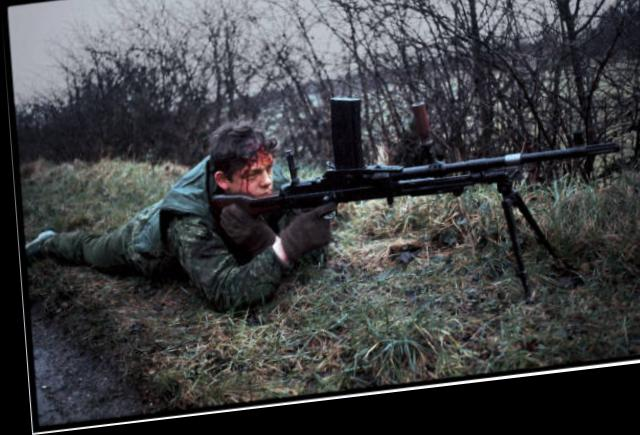other: (26, 135, 319, 329)
